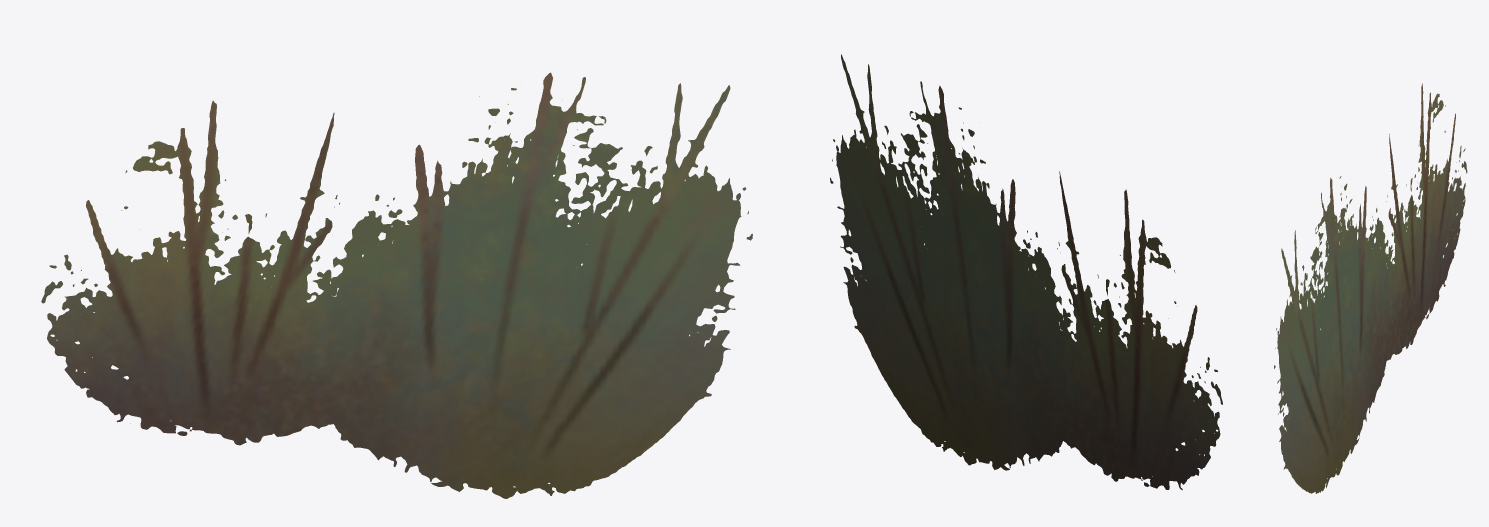
File: bush3.fbx
3 views of the same model, side by side, from view 1: azimuth 30°, elevation 25°; view 2: azimuth 150°, elevation 25°; view 3: azimuth 270°, elevation 25° (orthographic). The views are drawn at different scales.
Visible parts, largest first — view 1: bush3; view 2: bush3; view 3: bush3.
Part boxes in pixels (x1,y1,x2,y2): bush3: [41, 72, 752, 498]; bush3: [830, 54, 1222, 490]; bush3: [1274, 83, 1467, 493].
Bounding box in the file's own units: 179 × 137 × 69.51.
